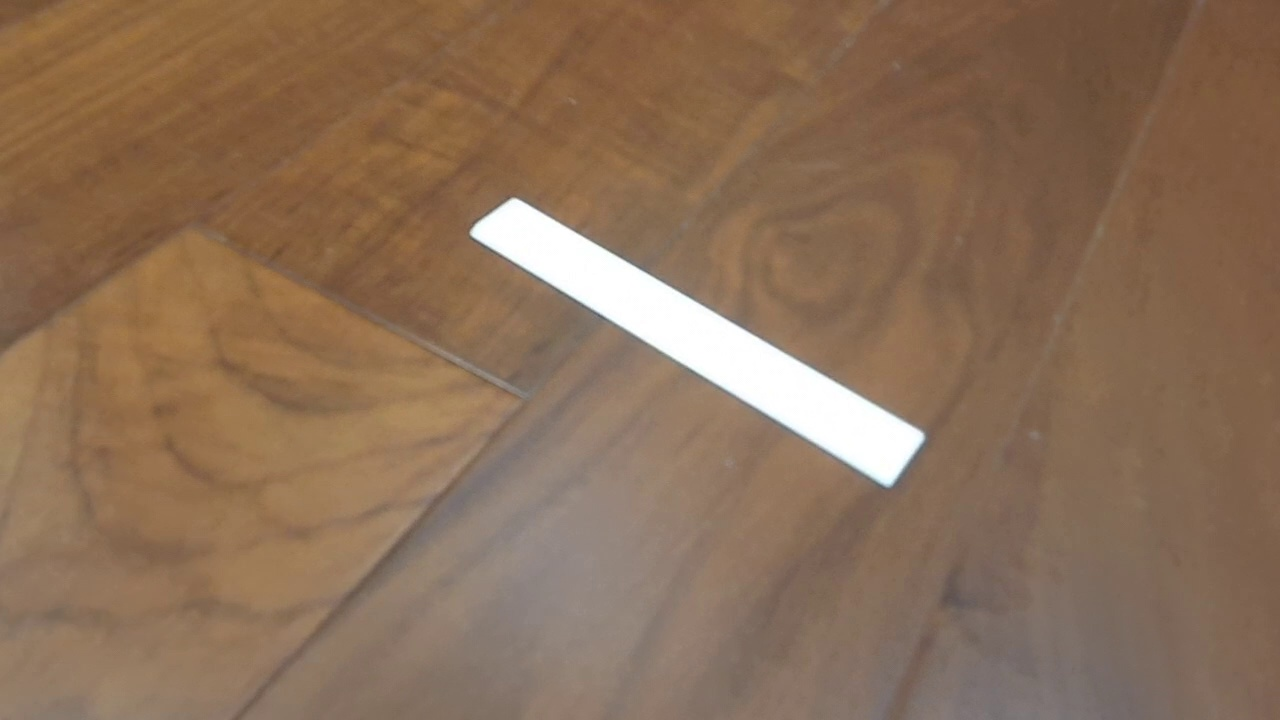ruler: (467, 195, 928, 490)
